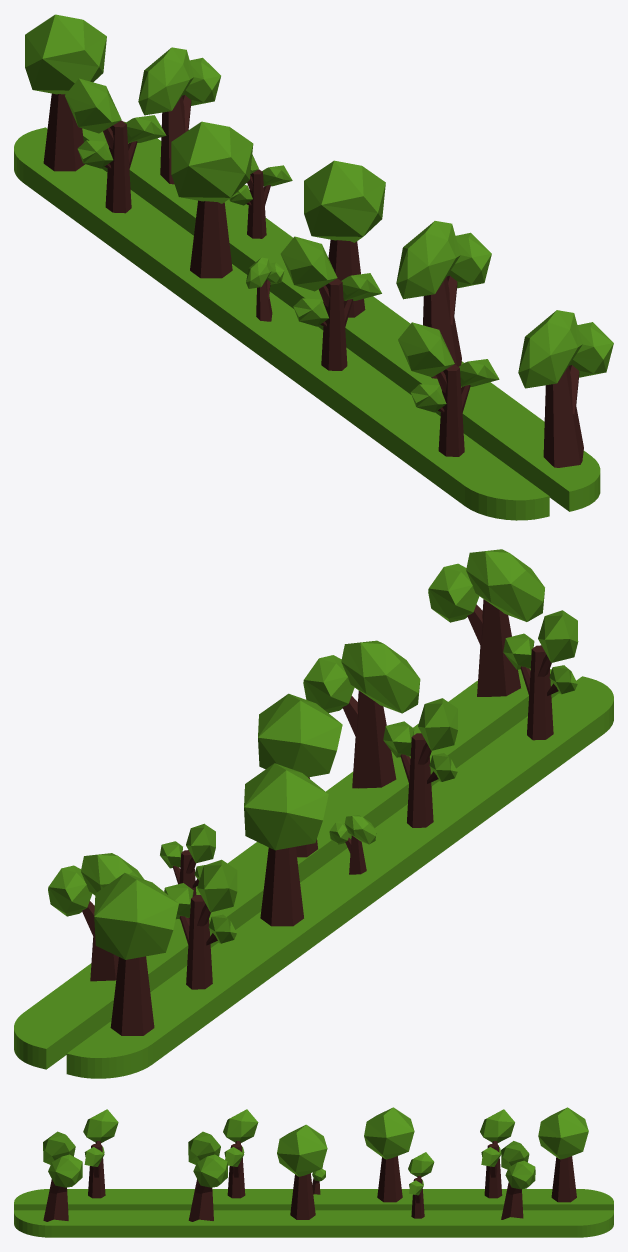
The model's file is longfield.gltf.
3 renders of one model, top to bottom at view 1: azimuth 30°, elevation 25°; view 2: azimuth 150°, elevation 25°; view 3: azimuth 270°, elevation 25°, orthographic. The views are drawn at different scales.
Parts seen in each view (by area): view 1: Cube.025, Икосфера.002, Икосфера.020; view 2: Cube.025, Икосфера.002, Икосфера.020; view 3: Cube.025, Икосфера.002, Икосфера.020.
Part boxes in pixels (bbox=[...]): Cube.025: bbox=[14, 121, 600, 520]; Икосфера.002: bbox=[25, 14, 613, 412]; Икосфера.020: bbox=[43, 93, 583, 467]; Cube.025: bbox=[14, 668, 613, 1078]; Икосфера.002: bbox=[48, 549, 578, 959]; Икосфера.020: bbox=[82, 599, 558, 1035]; Cube.025: bbox=[14, 1189, 613, 1237]; Икосфера.002: bbox=[43, 1107, 588, 1195]; Икосфера.020: bbox=[43, 1141, 576, 1221].
Bounding box in the file's own units: 0.884 × 0.8308 × 4.49.
